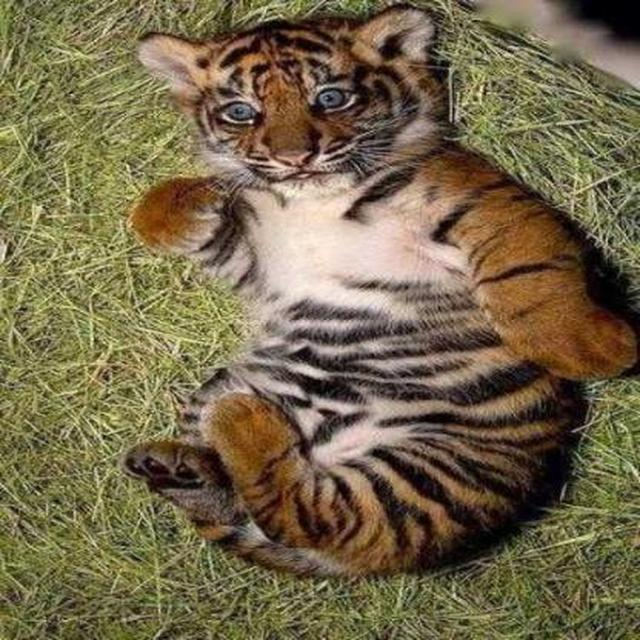tiger: (119, 0, 639, 582)
